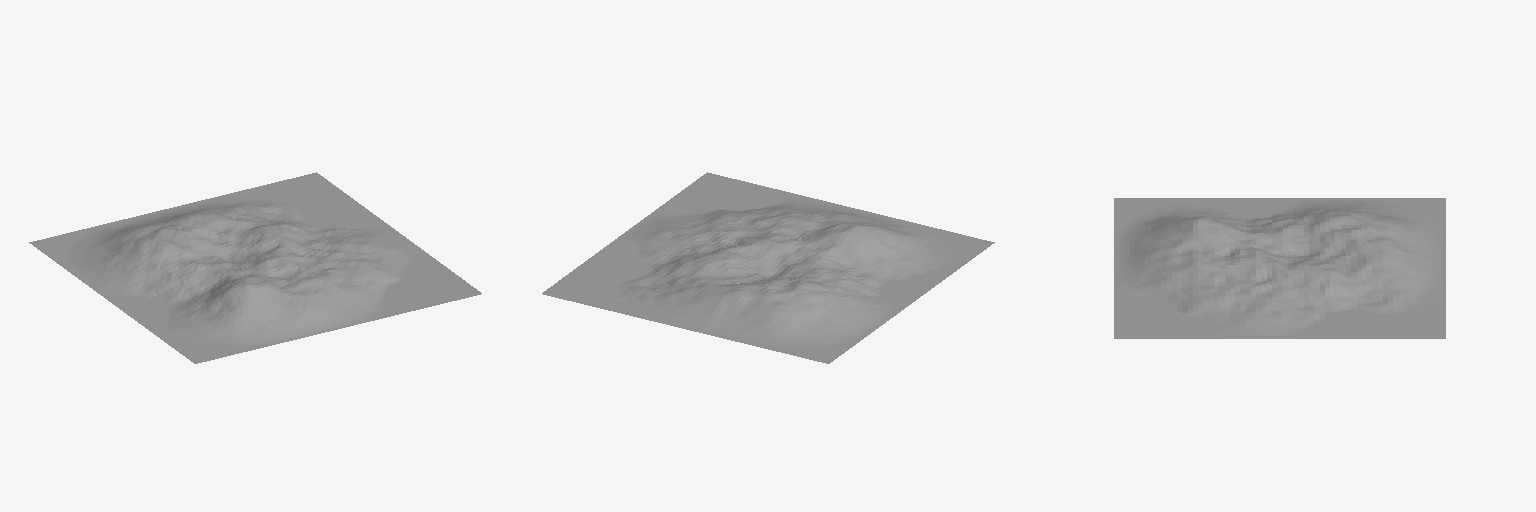
The model's file is desert.obj.
3 renders of one model, left to right at view 1: azimuth 30°, elevation 25°; view 2: azimuth 150°, elevation 25°; view 3: azimuth 270°, elevation 25°, orthographic.
Parts seen in each view (by area): view 1: Landscape; view 2: Landscape; view 3: Landscape.
Part boxes in pixels (bbox=[...]): Landscape: bbox=[29, 172, 481, 363]; Landscape: bbox=[542, 172, 994, 363]; Landscape: bbox=[1114, 198, 1445, 338].
Bounding box in the file's own units: 4000 × 327 × 4000.